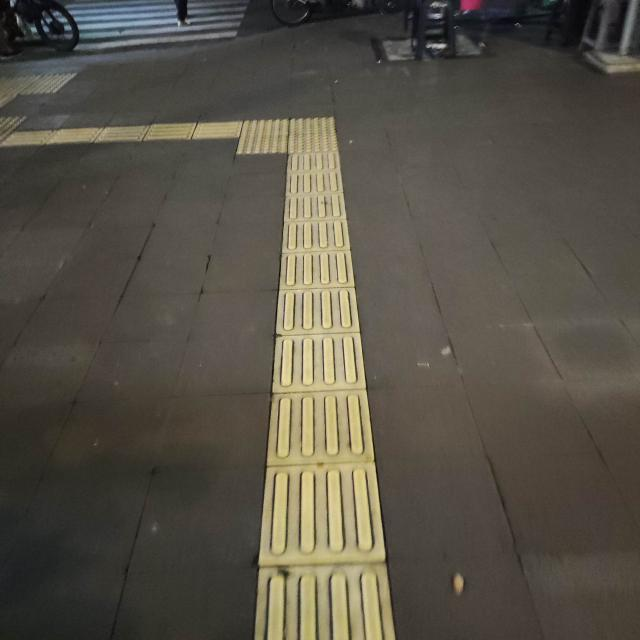kiri: (146, 95, 352, 182)
